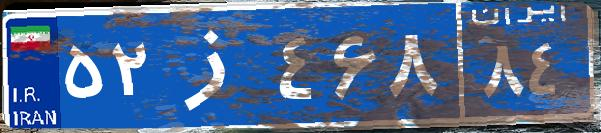2: (110, 28, 158, 105)
4: (273, 28, 330, 110), (525, 38, 570, 115)
5: (57, 26, 110, 107)
6: (330, 28, 385, 110)
8: (385, 28, 445, 110), (475, 38, 525, 113)
ز: (158, 15, 273, 115)
